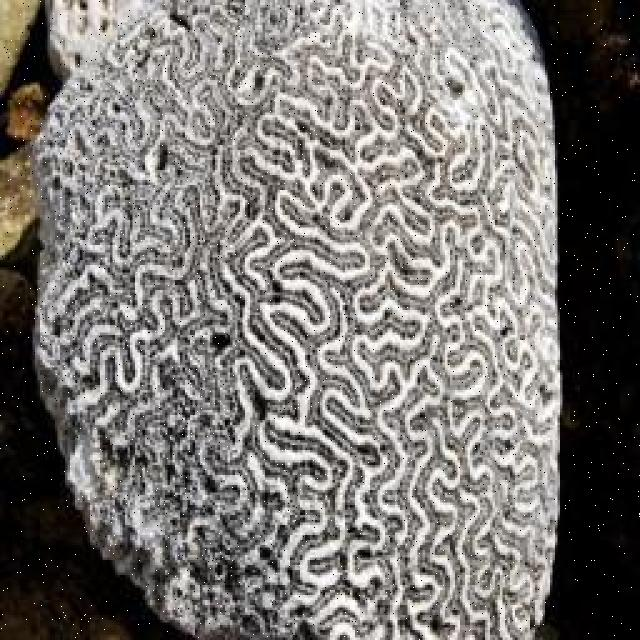reefs: (29, 0, 561, 638), (47, 1, 159, 81)
